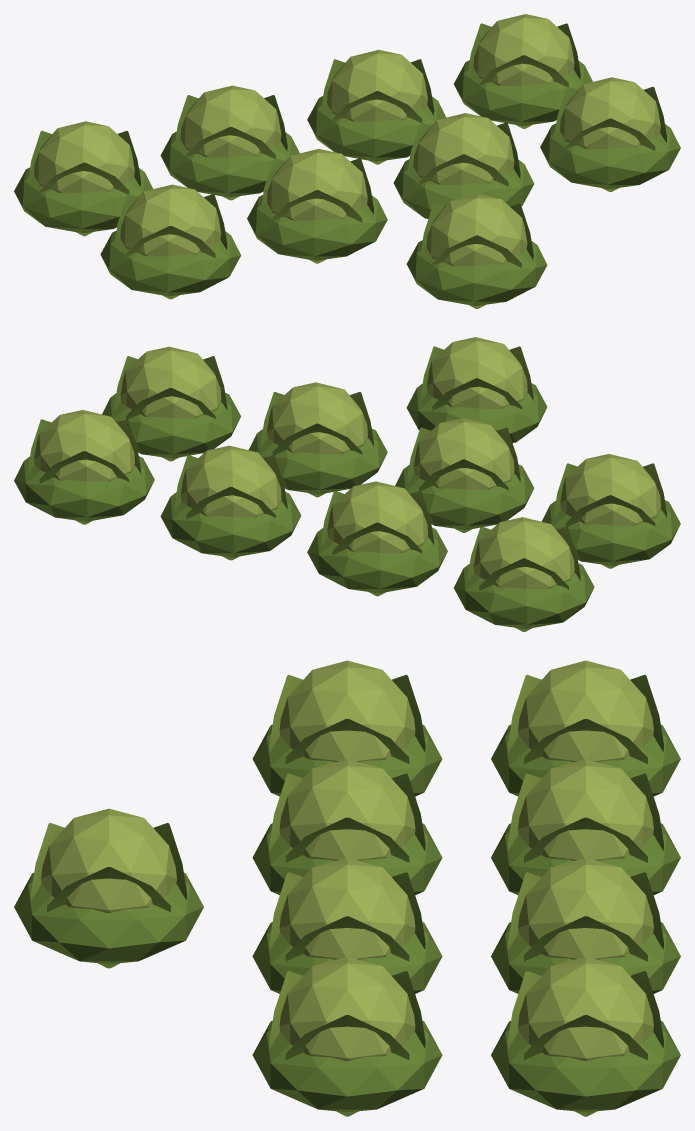
The model's file is pile-lettuce-9.gltf.
3 renders of one model, top to bottom at view 1: azimuth 30°, elevation 25°; view 2: azimuth 150°, elevation 25°; view 3: azimuth 270°, elevation 25°, orthographic. The views are drawn at different scales.
Parts seen in each view (by area): view 1: pile-lettuce-9; view 2: pile-lettuce-9; view 3: pile-lettuce-9.
Part boxes in pixels (x1,y1,x2,y2): pile-lettuce-9: (14,14,680,308); pile-lettuce-9: (14,337,680,631); pile-lettuce-9: (14,660,680,1116).
Size of the model in its own units: 0.9216 by 0.1512 by 0.6853.
